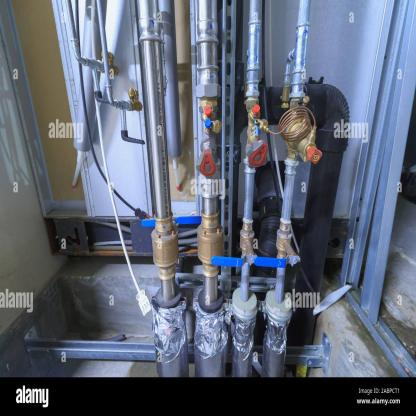PVC: (64, 1, 349, 378)
